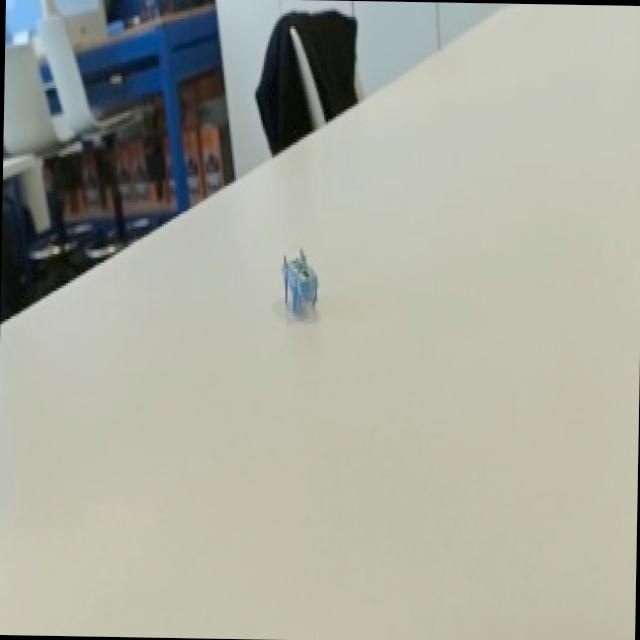3_NanoBug_Celeste: (255, 225, 352, 338)
